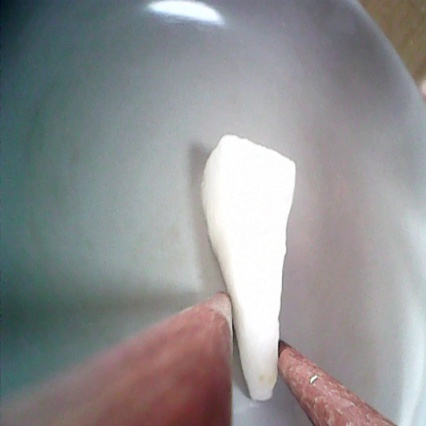white_chinese-yam: (190, 123, 305, 399)
